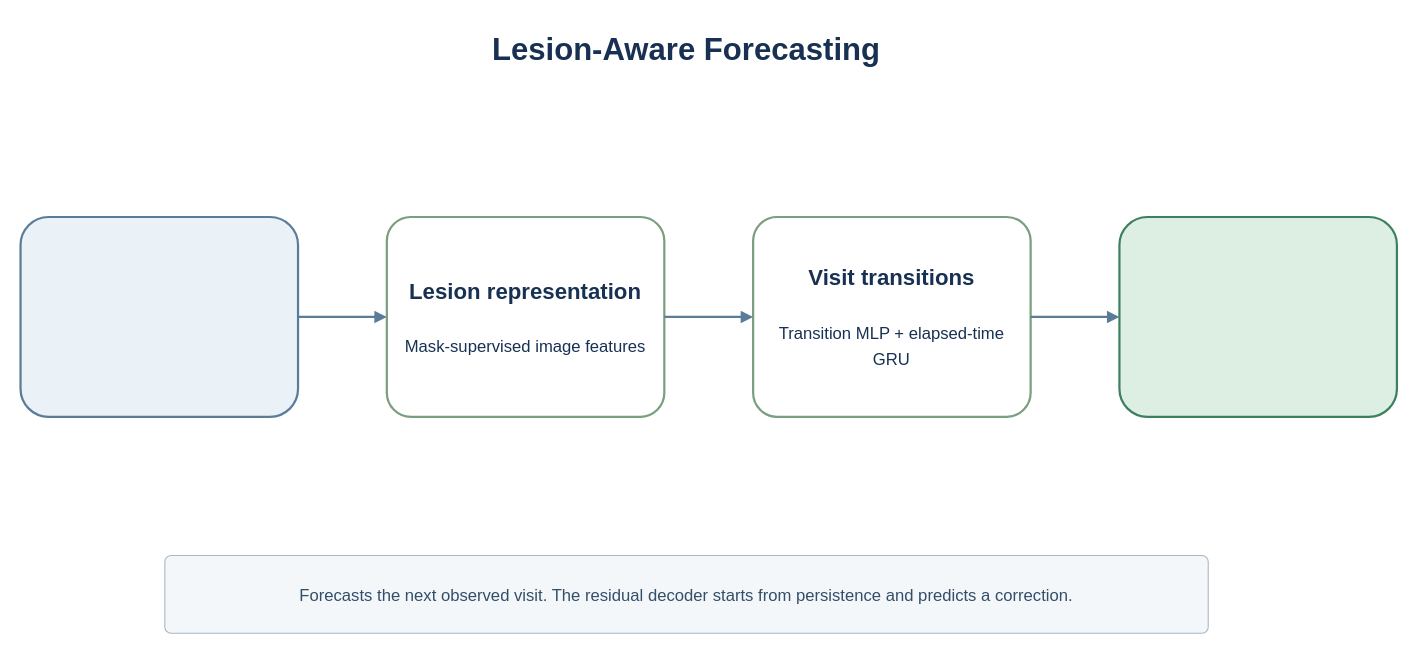
The diagram is 1416 pixels wide and 653 high, and some of its shapes have lost their labels. The shapes that lost their labels are listed below. From the top down, each one's box as (x1, y1, x2, y2) in pixels, then its label:
(19, 215, 299, 417): MRI + current masks Visit image and lesion compartments
(1118, 215, 1397, 417): Next-visit volumes Enhancing Necrotic/nonenhancing Edema/FLAIR
